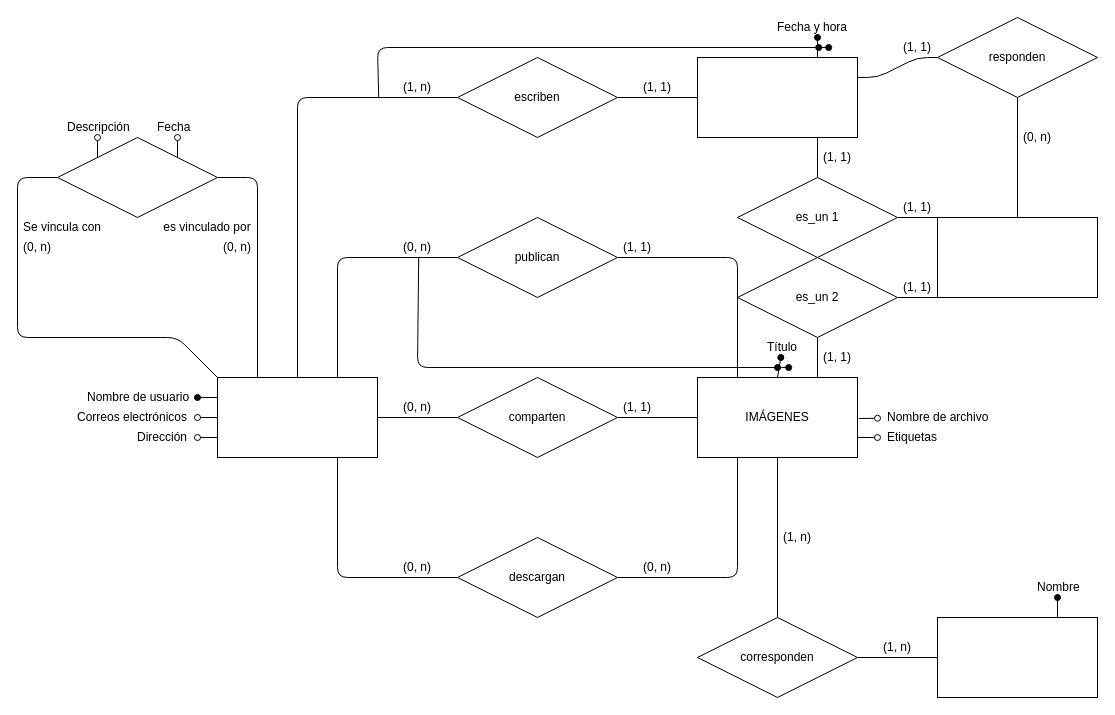
This 1115x715 diagram has some shape labels left out. The shapes that lost their labels are listed below. From the top down, each one's centre as x and y in pixels, then its label:
At pixel 777 97: "COMENTARIOS".
At pixel 137 177: "vinculan".
At pixel 1017 257: "CONTENIDOS".
At pixel 297 417: "USUARIOS".
At pixel 1017 657: "TEMÁTICAS".
